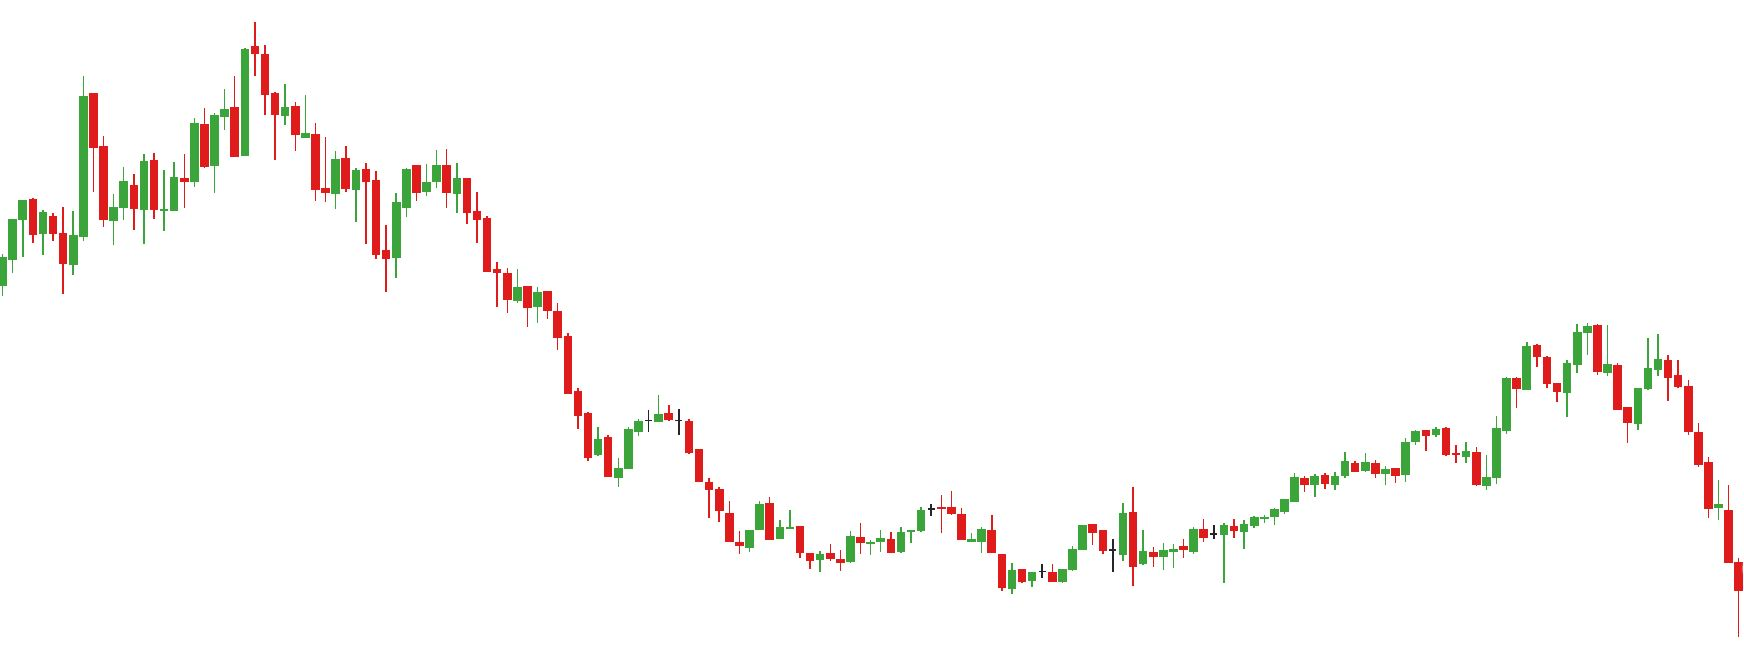buy: (1399, 432, 1504, 499)
sell: (1519, 322, 1604, 396)
